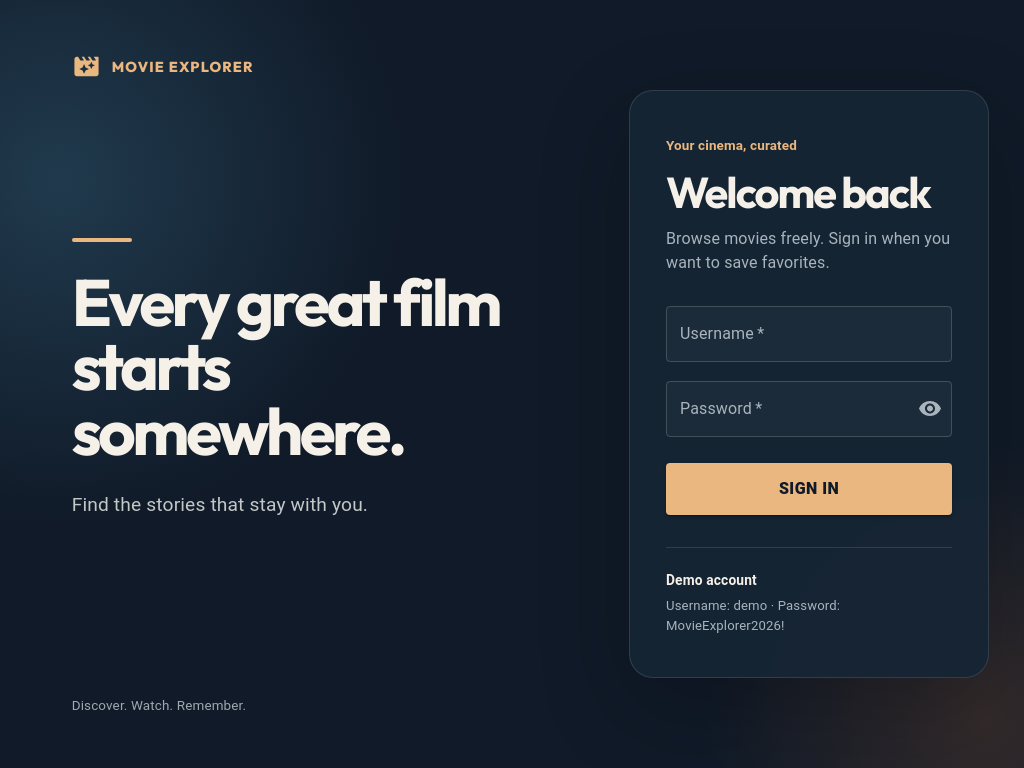
wrong demo password unlocks the form with an inline error
Type "demo" into the field labelled "Username *" at x=809, y=334, box [666,306,952,362]
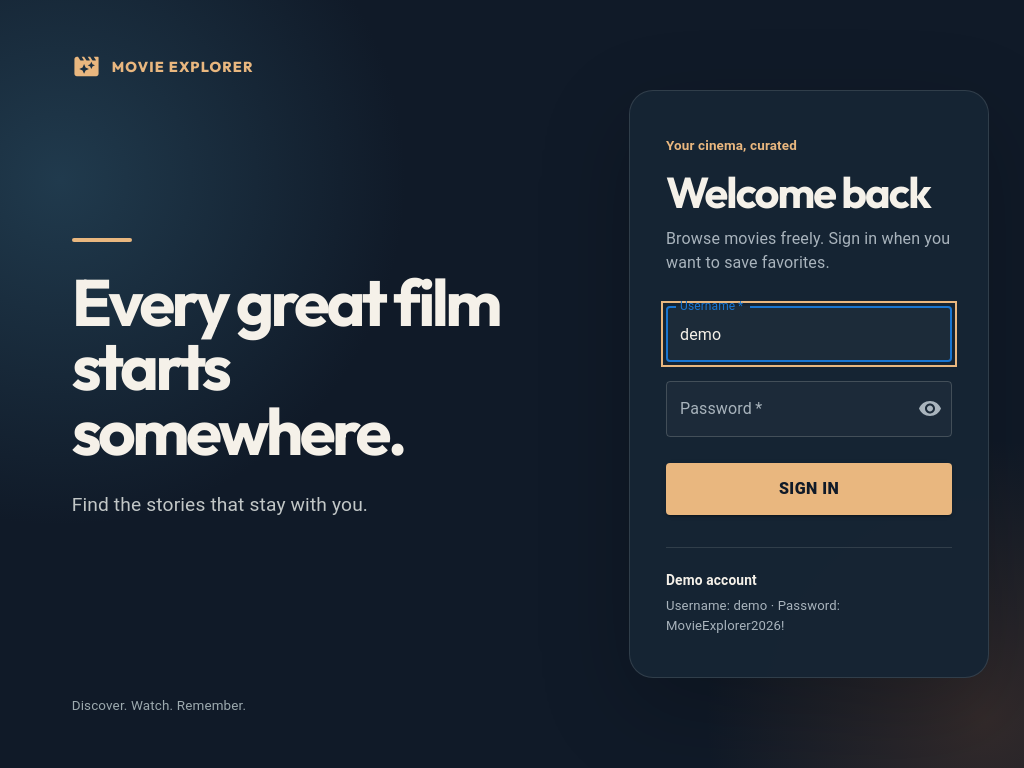
Type "wrong" into the password field labelled "Password *" at x=784, y=409, box [666,381,902,437]
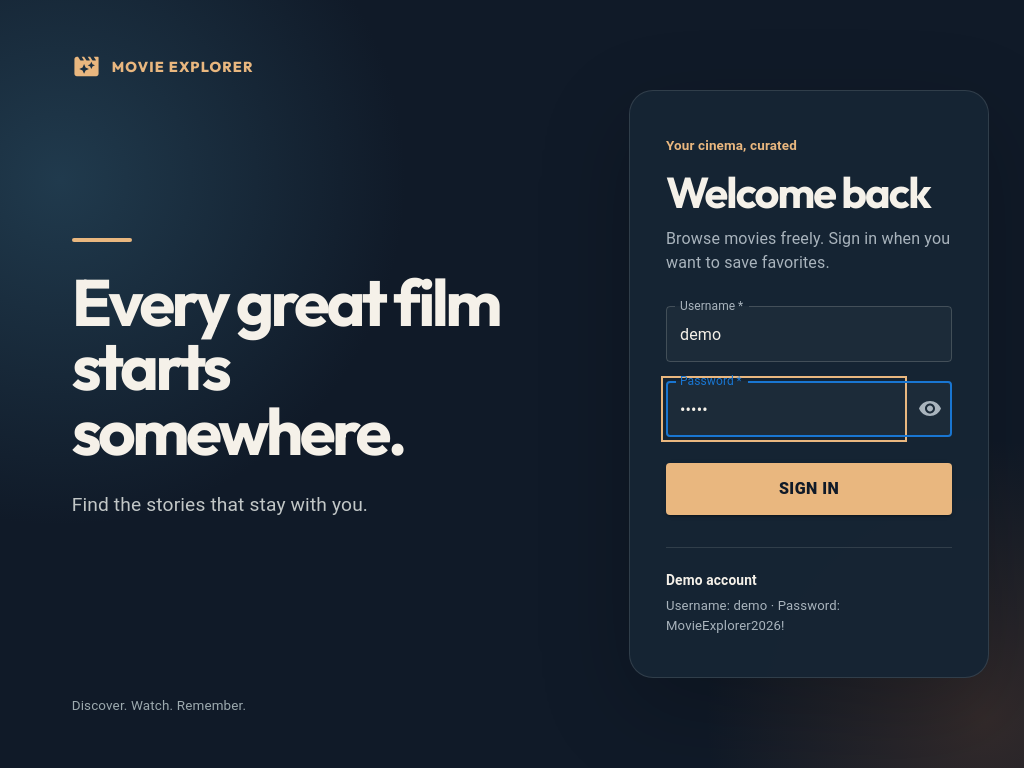
Click the button "Sign in" at x=809, y=489, box [666,463,952,515]
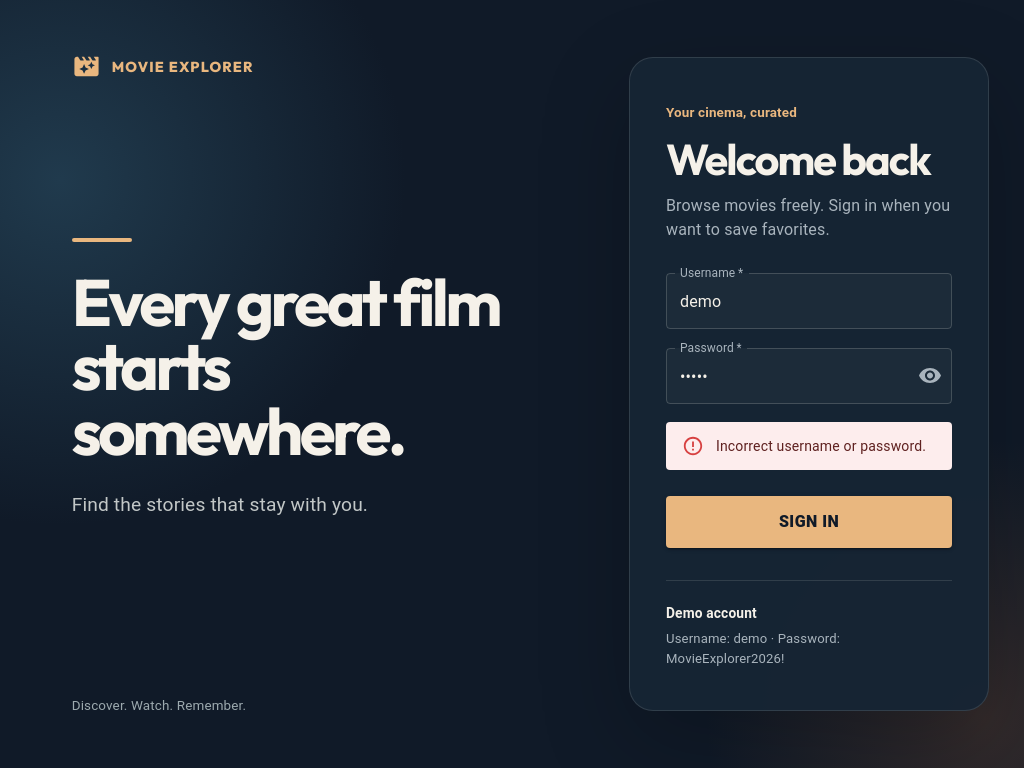
Check: the field labelled "Username *" is enabled, box [666,273,952,329]
Check: the text "Incorrect username or password." is shown, box [716,438,926,454]
